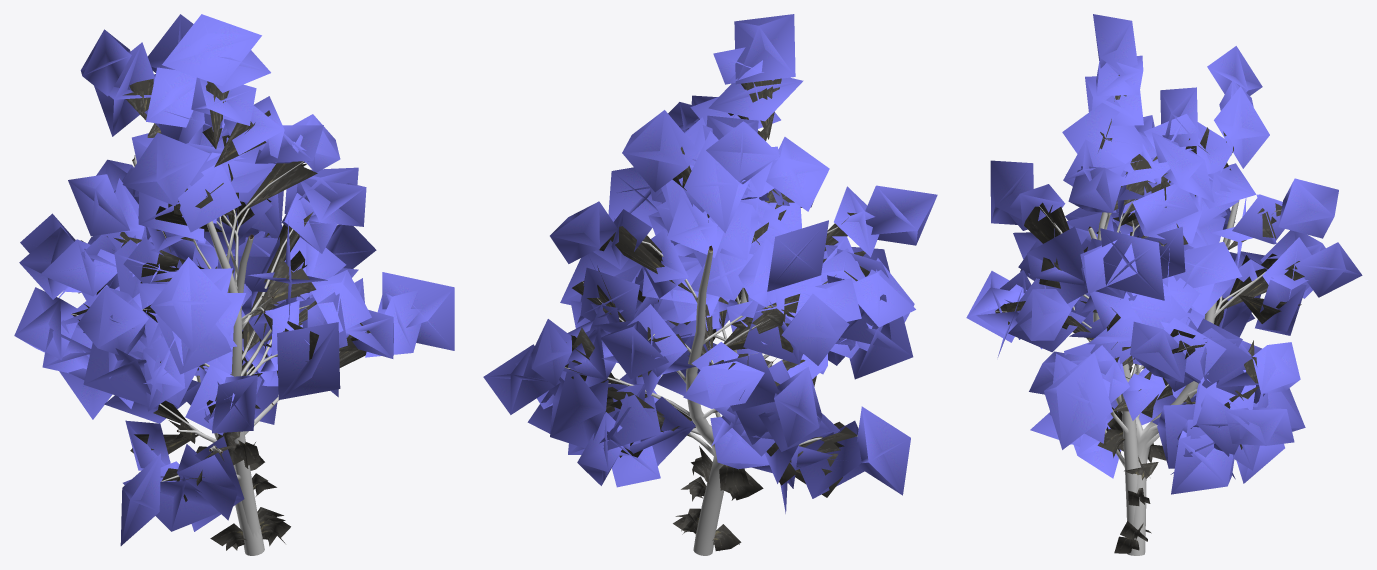
File: Birch_10.fbx
The picture shows the model from 3 angles, left to right: view 1: azimuth 30°, elevation 25°; view 2: azimuth 150°, elevation 25°; view 3: azimuth 270°, elevation 25°; orthographic projection. The views are drawn at different scales.
Visible parts, largest first — view 1: Birch_10; view 2: Birch_10; view 3: Birch_10.
Boxes of the visible parts, left/top/right/bottom form: Birch_10: left=14, top=14, right=454, bottom=555; Birch_10: left=483, top=14, right=937, bottom=555; Birch_10: left=966, top=14, right=1362, bottom=555.
Size of the model in its own units: 20.94 by 31.33 by 22.09.
